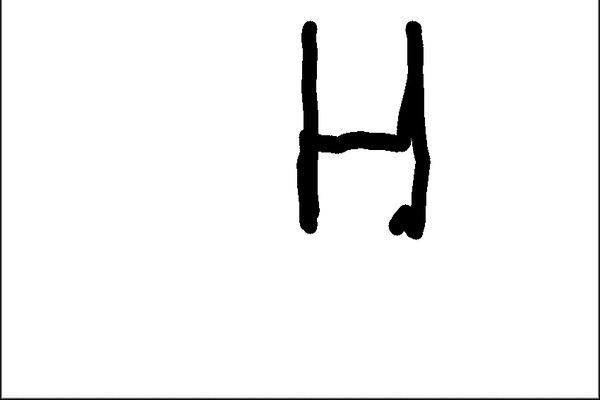H: (286, 11, 436, 245)
